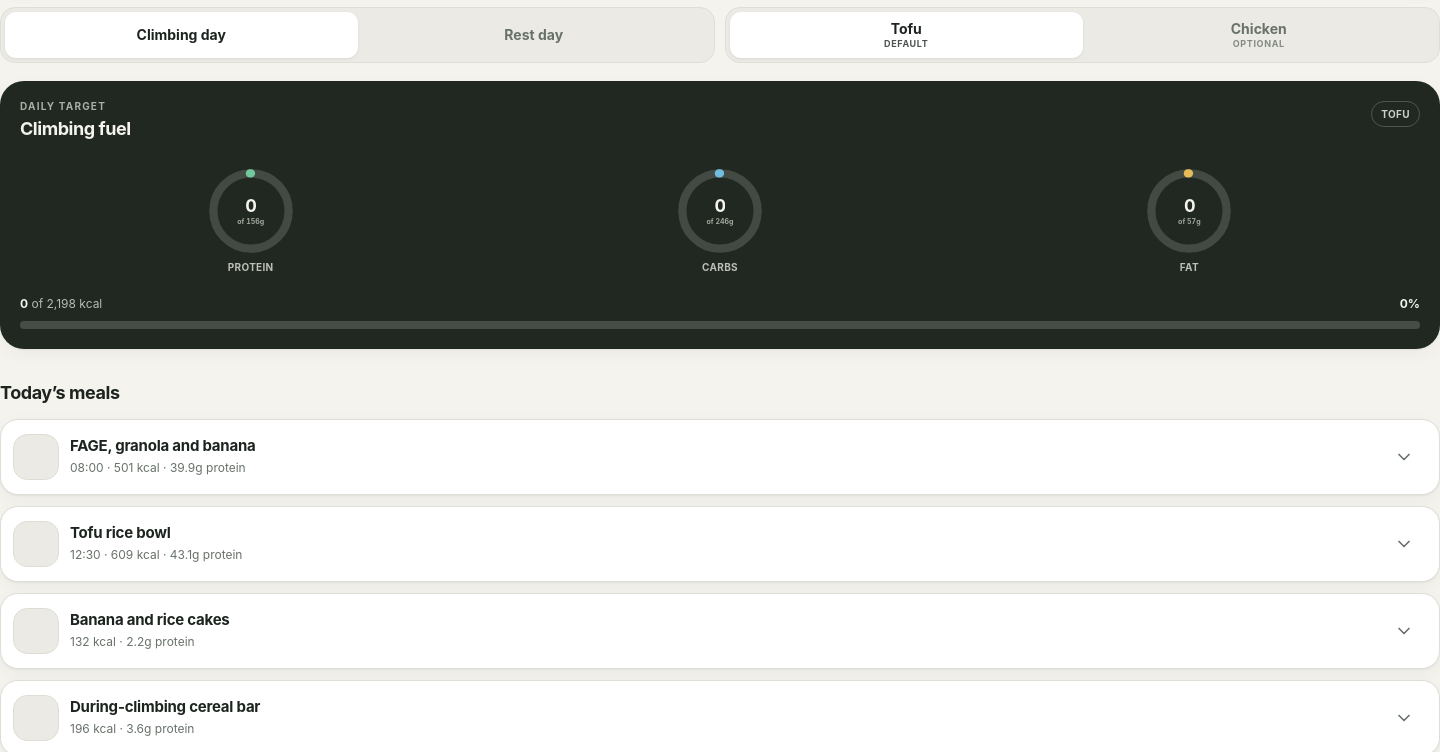
Test: tracking interactions › switches plan and variant and quick-adds water
Expected: the heading "Climbing fuel" is shown, [20,115,131,142]
Click the radio button labelled "Rest day". click: x=534, y=35
box: [358,12,710,58]
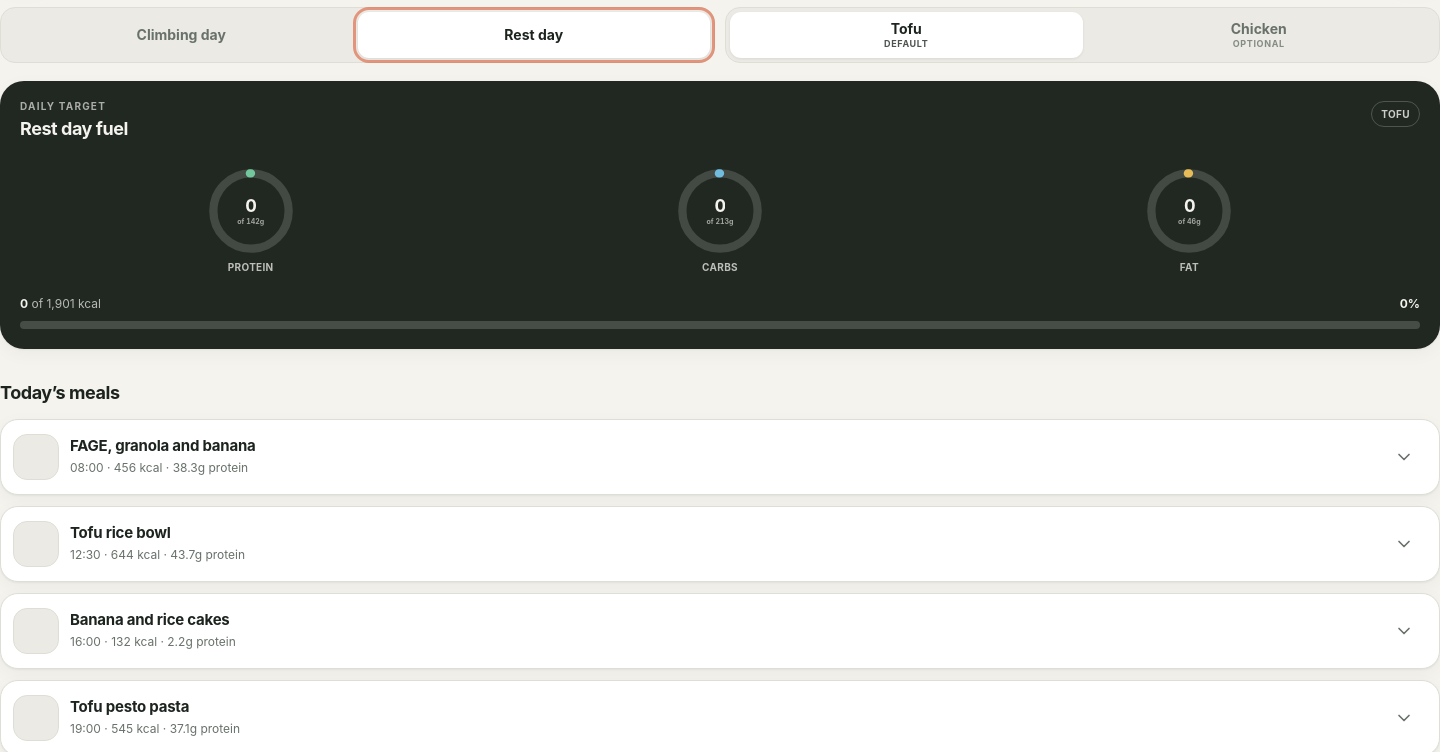
Expected: the heading "Rest day fuel" is shown, [20,115,128,142]
Click the radio button labelled "Chicken Optional". click: x=1259, y=35
box: [1082,12,1435,58]
(page scrolled)
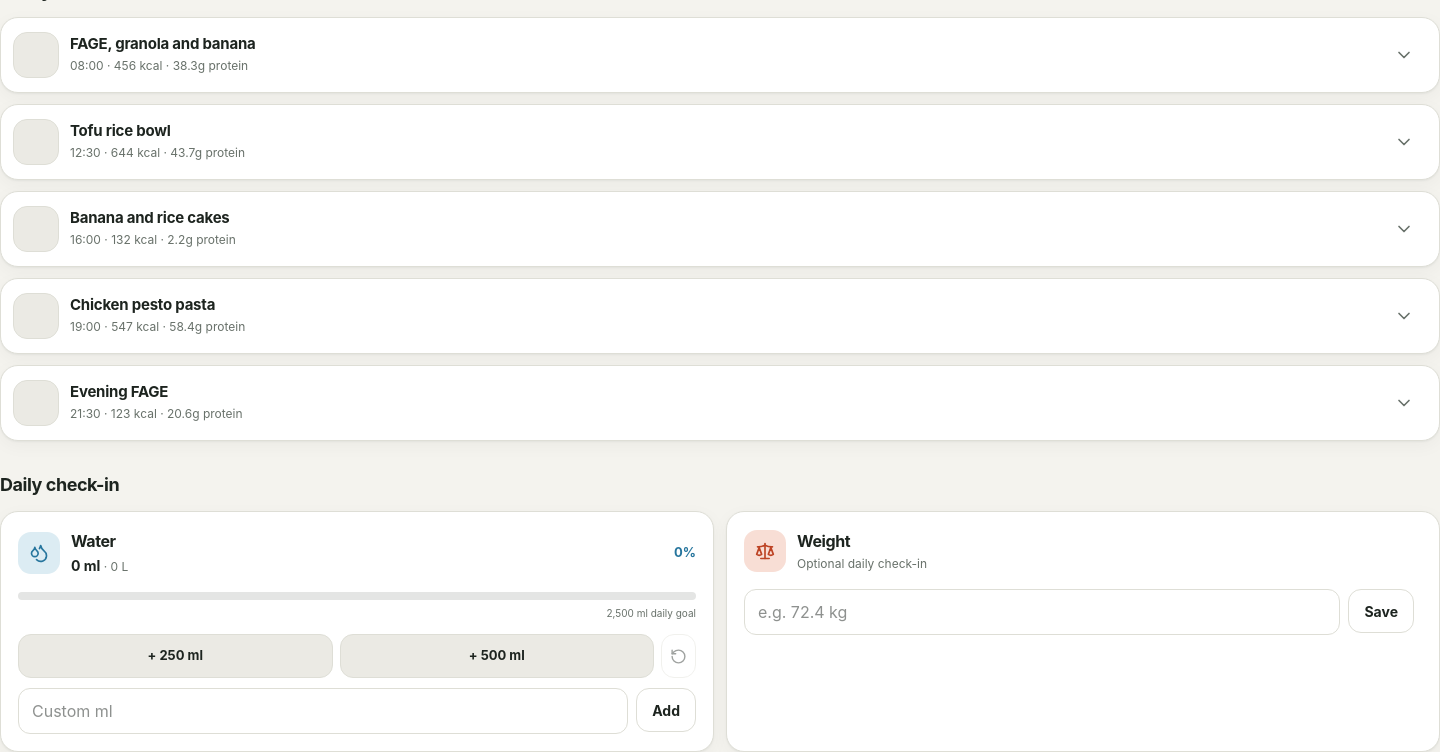
Expected: the heading "Chicken pesto pasta" is shown, [70,295,215,314]
Expected: the heading "Tofu pesto pasta" is gone
Click the button "+ 250 ml". click: x=175, y=656
box: [18,634,332,678]
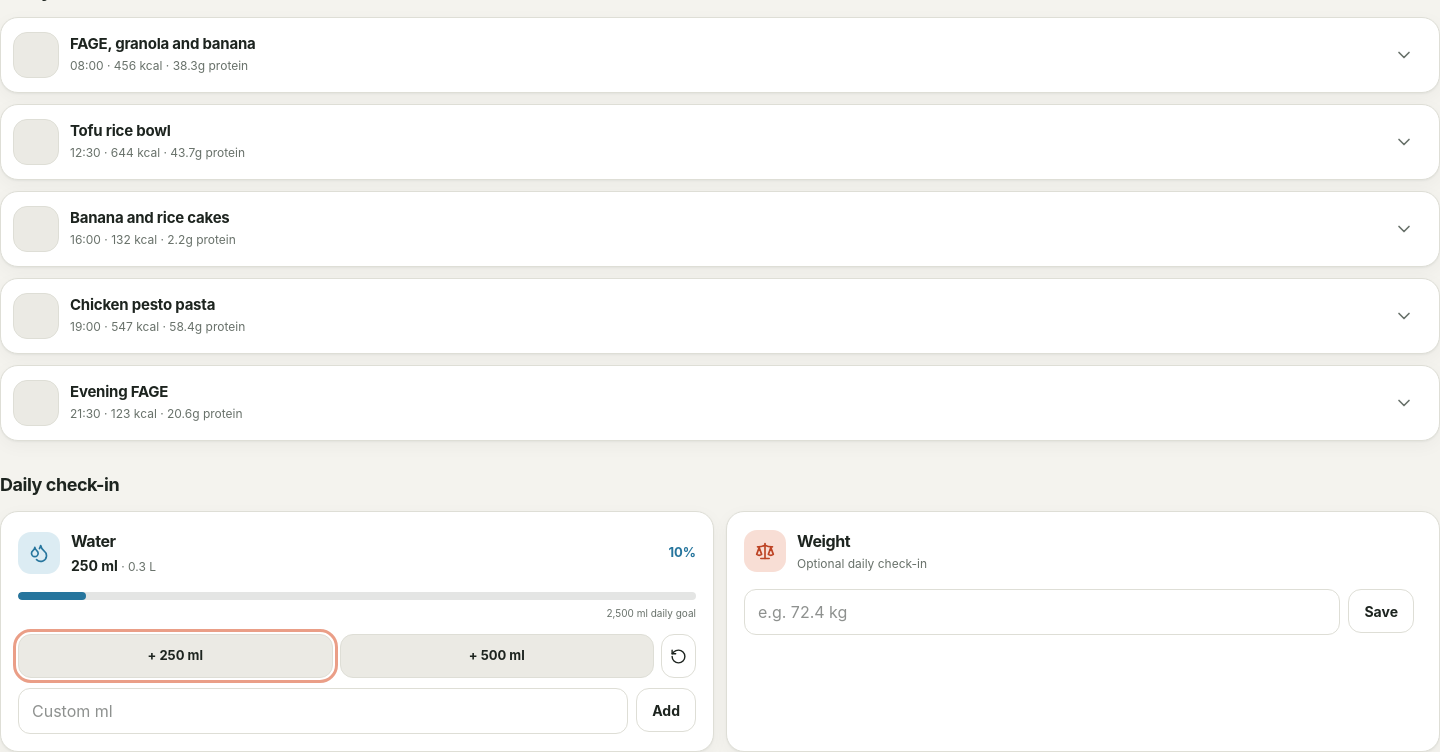
Expected: the text "250 ml" is shown, [71,557,118,574]
